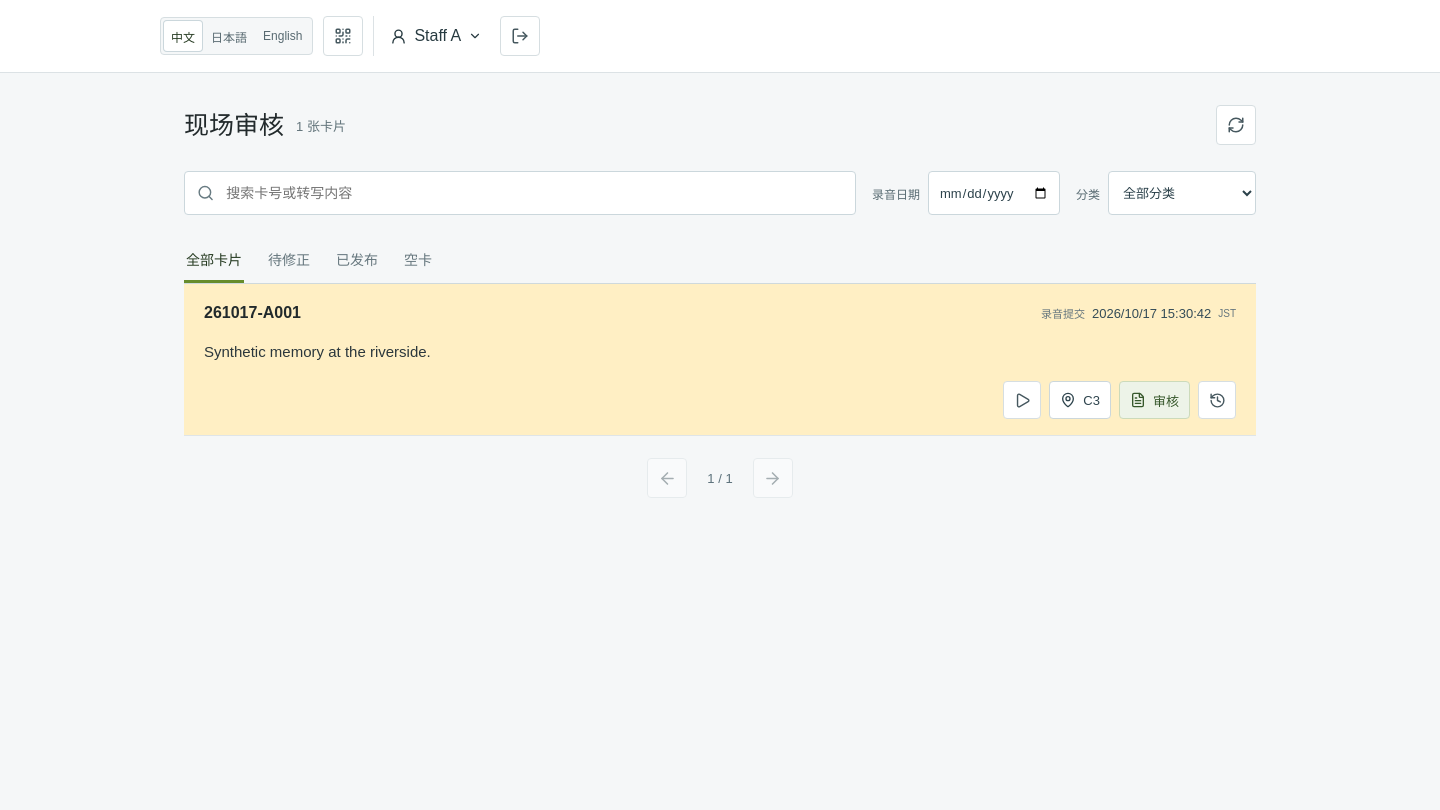
Test: staff website › retains edited text and language after a retry version conflict
Click the button with aria-label "审核 261017-A001": (1154, 400) [1119,381,1190,419]
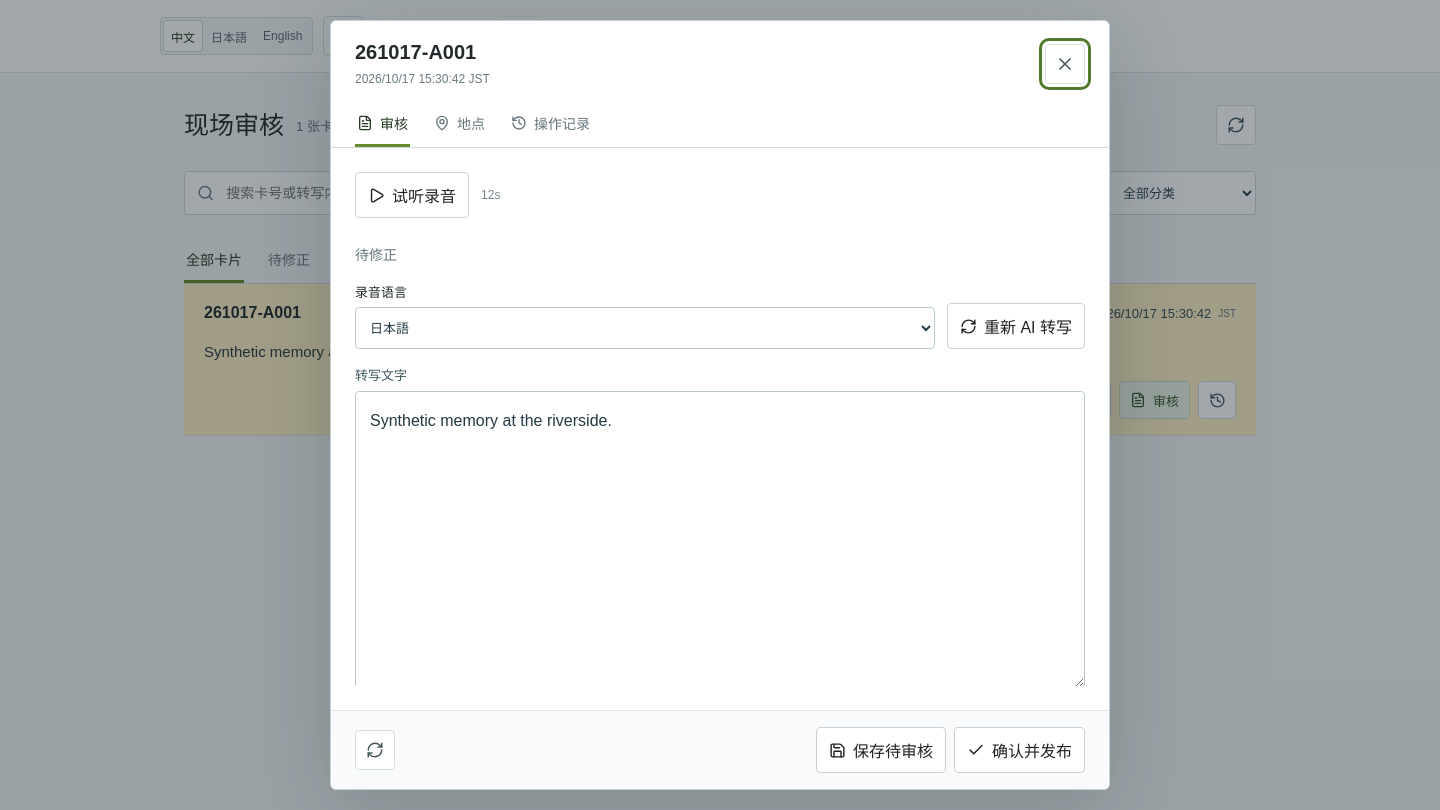
Replace the text in the text box labelled "转写文字" with "Unsaved review": (720, 540) [355,391,1085,688]
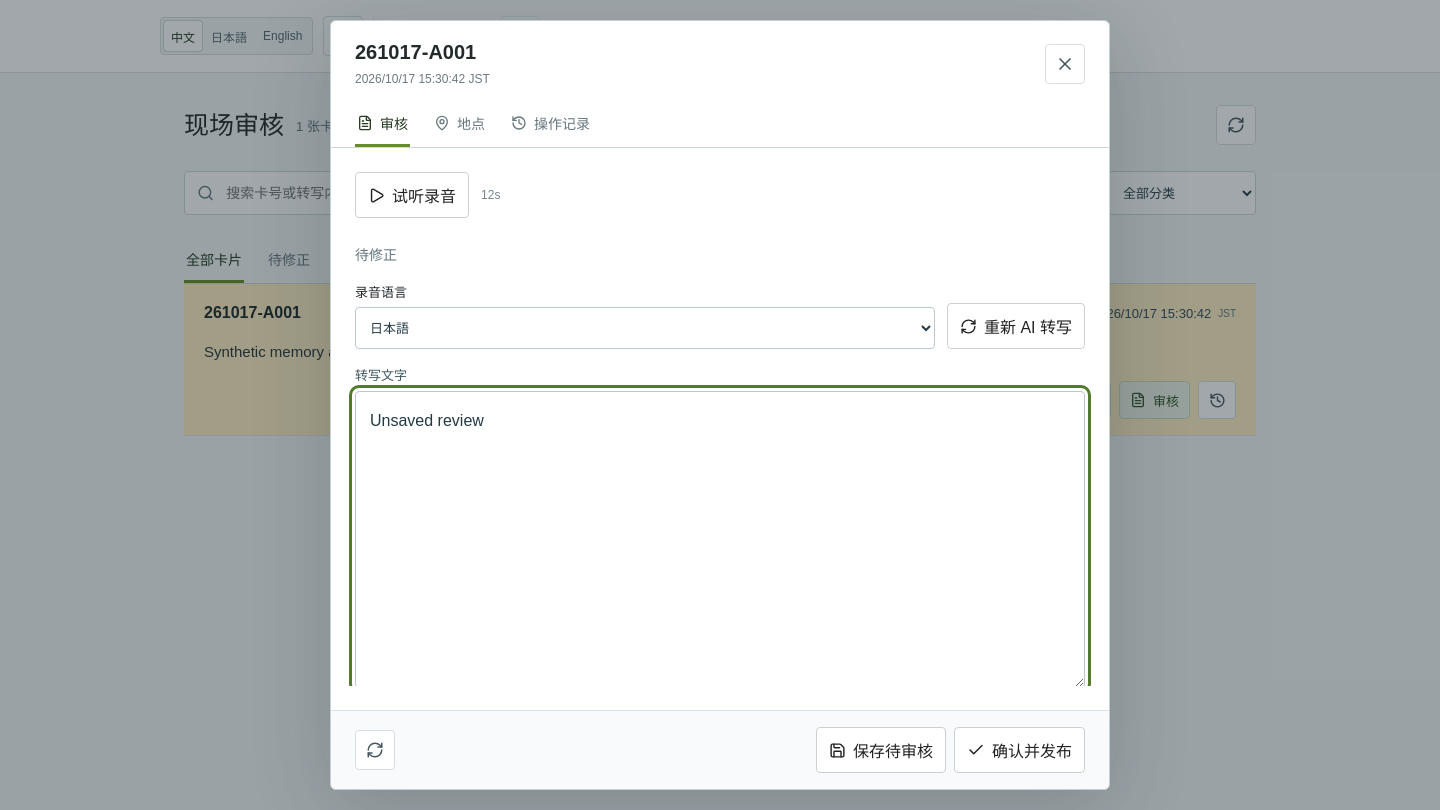
Select "Español" in the dropdown labelled "录音语言": (645, 328) [355,307,935,349]
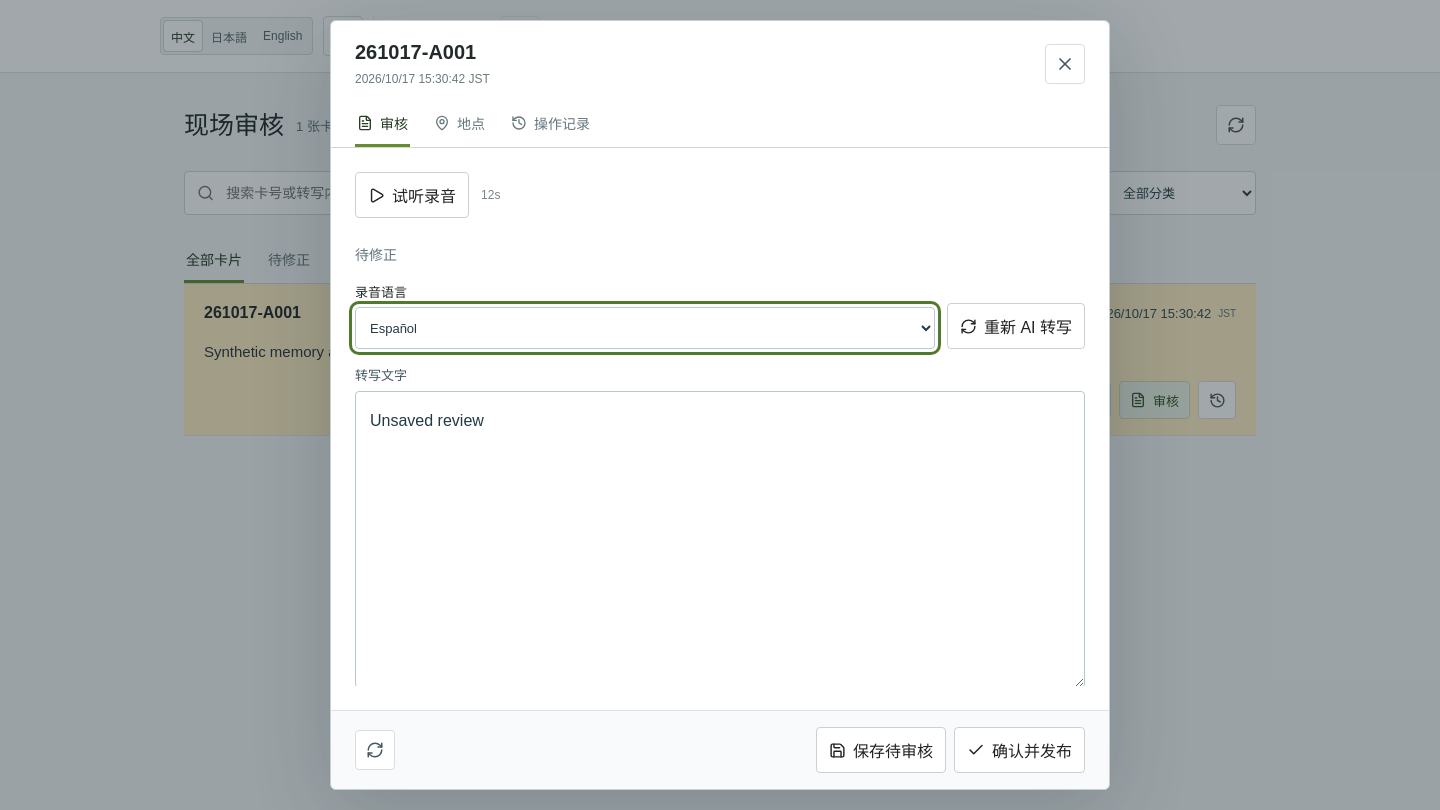
Click the button "重新 AI 转写": (1016, 326) [947,303,1085,349]
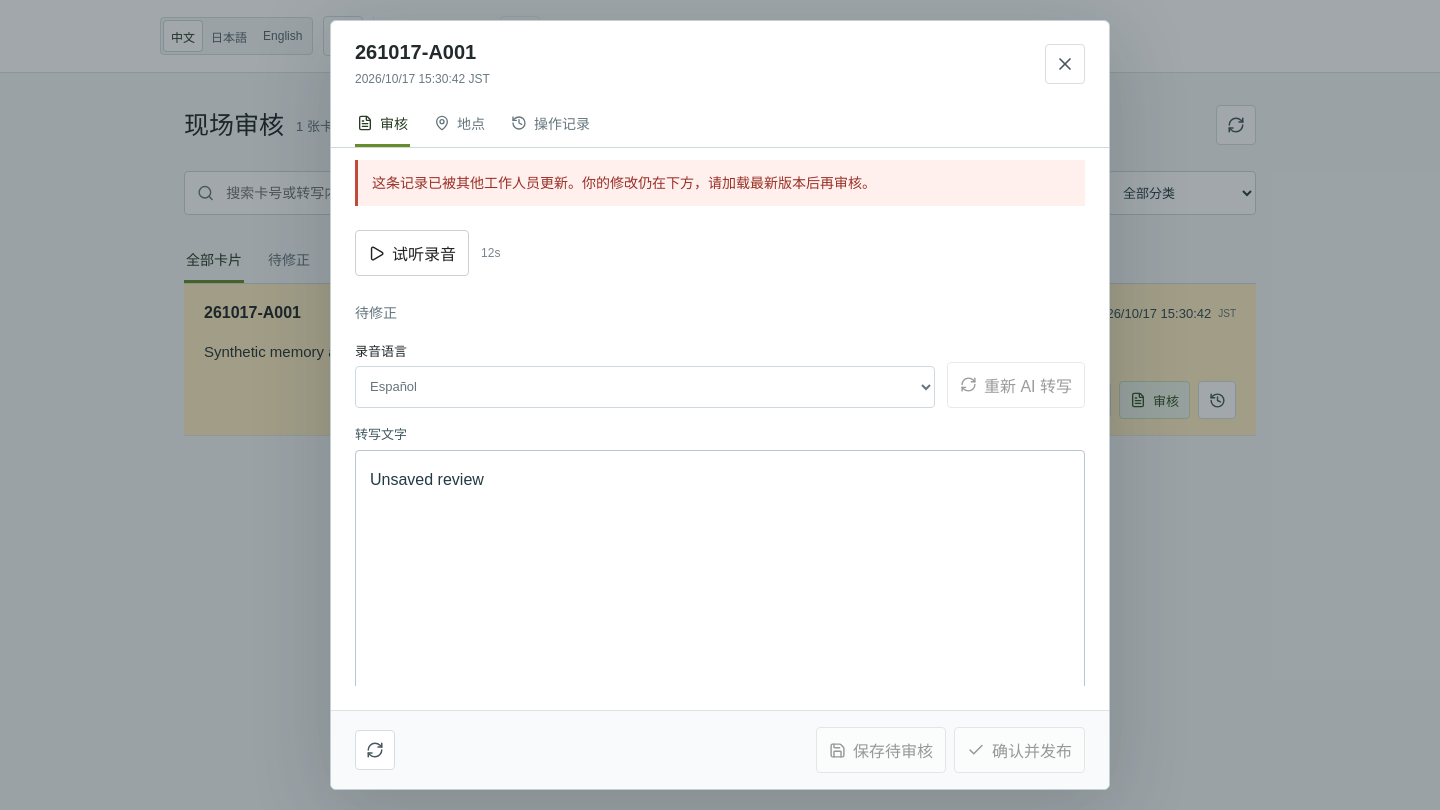
Now the message shows "已被其他工作人员更新", box [372,175,876,191]
Now the button "重新 AI 转写" is disabled, box [947,362,1085,408]
